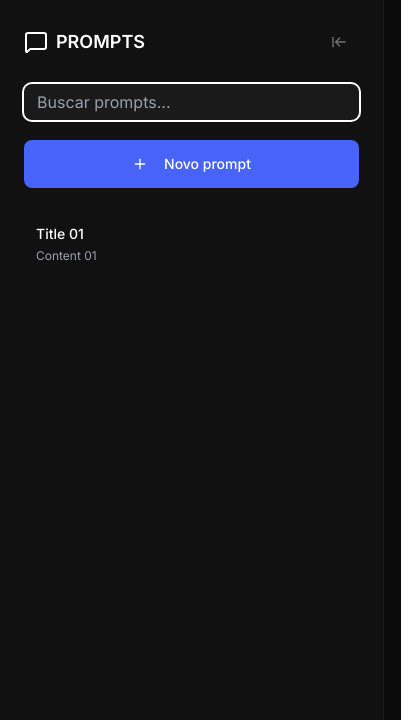
Test: SidebarContent › Colapsar / Expandir › deveria reexpandir ao clicar no botão de expandir
Click the button named "minimizar sidebar": (339, 42) x1=319 y1=24 x2=359 y2=60
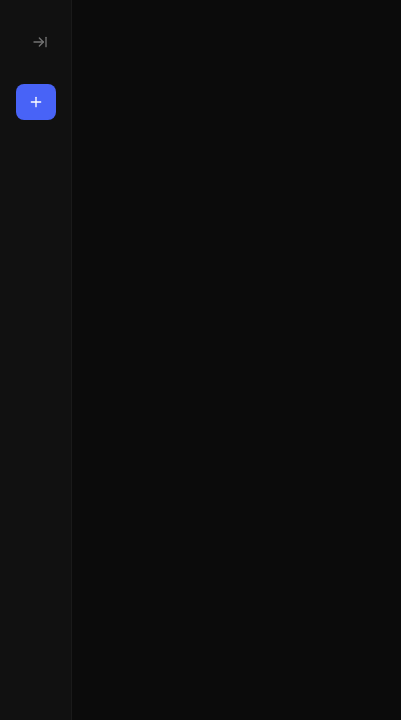
Click the button named "expandir sidebar": (40, 42) x1=20 y1=24 x2=60 y2=60
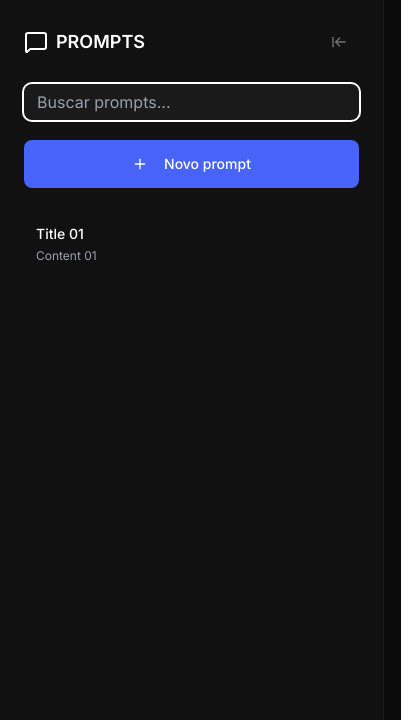
Check: the button named "minimizar sidebar" is shown, box x1=319 y1=24 x2=359 y2=60
Check: the navigation bar named "Lista de prompts" is shown, box x1=36 y1=225 x2=97 y2=263
